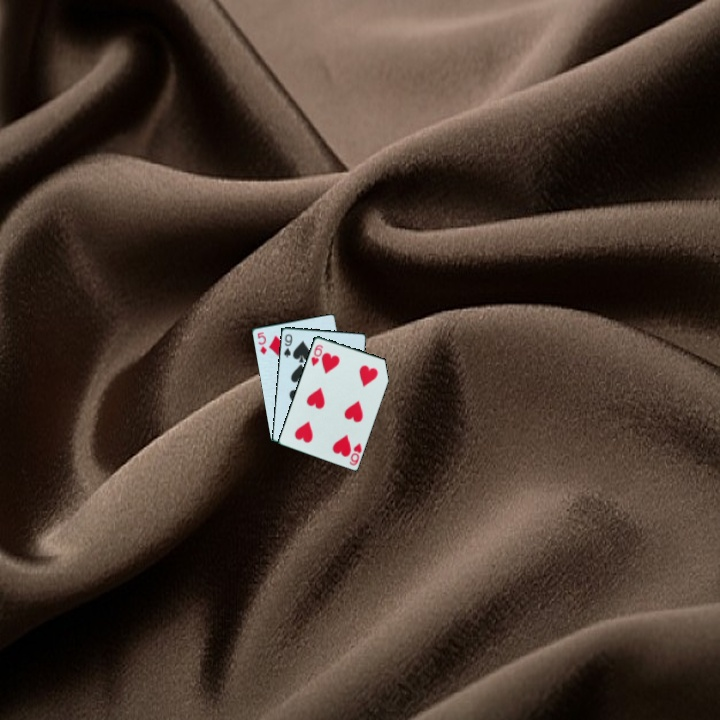5d: (254, 329, 269, 357)
6h: (346, 439, 364, 468), (307, 341, 325, 369)
9s: (280, 330, 295, 360)
